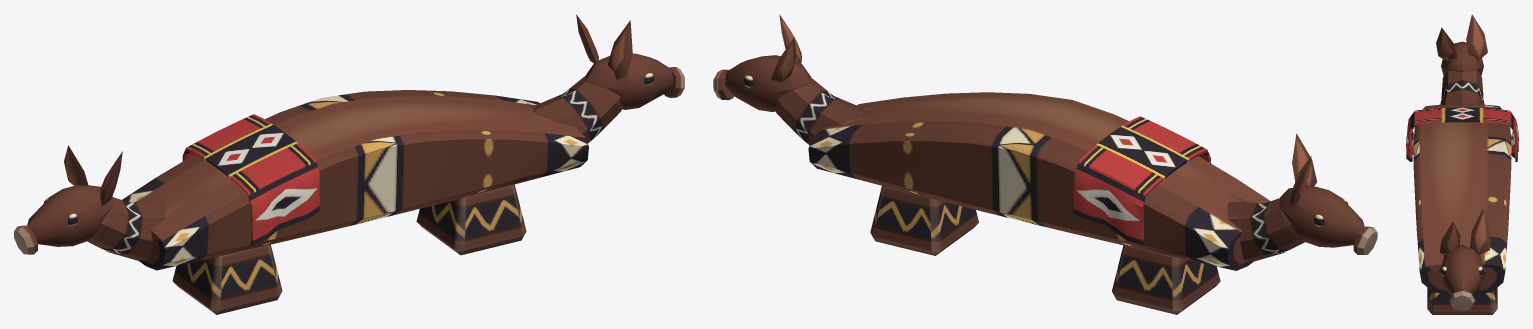
File: hagabi_bench.glb
The picture shows the model from 3 angles, left to right: view 1: azimuth 30°, elevation 25°; view 2: azimuth 150°, elevation 25°; view 3: azimuth 270°, elevation 25°; orthographic projection. The views are drawn at different scales.
Parts seen in each view (by area): view 1: hagabi_bench; view 2: hagabi_bench; view 3: hagabi_bench.
Boxes of the visible parts, bbox=[...] form: hagabi_bench: bbox=[14, 14, 684, 314]; hagabi_bench: bbox=[713, 14, 1377, 314]; hagabi_bench: bbox=[1406, 14, 1518, 314].
Size of the model in its own units: 4.5 by 1.17 by 0.8575.
Materials: 1 (1 with a texture image).
